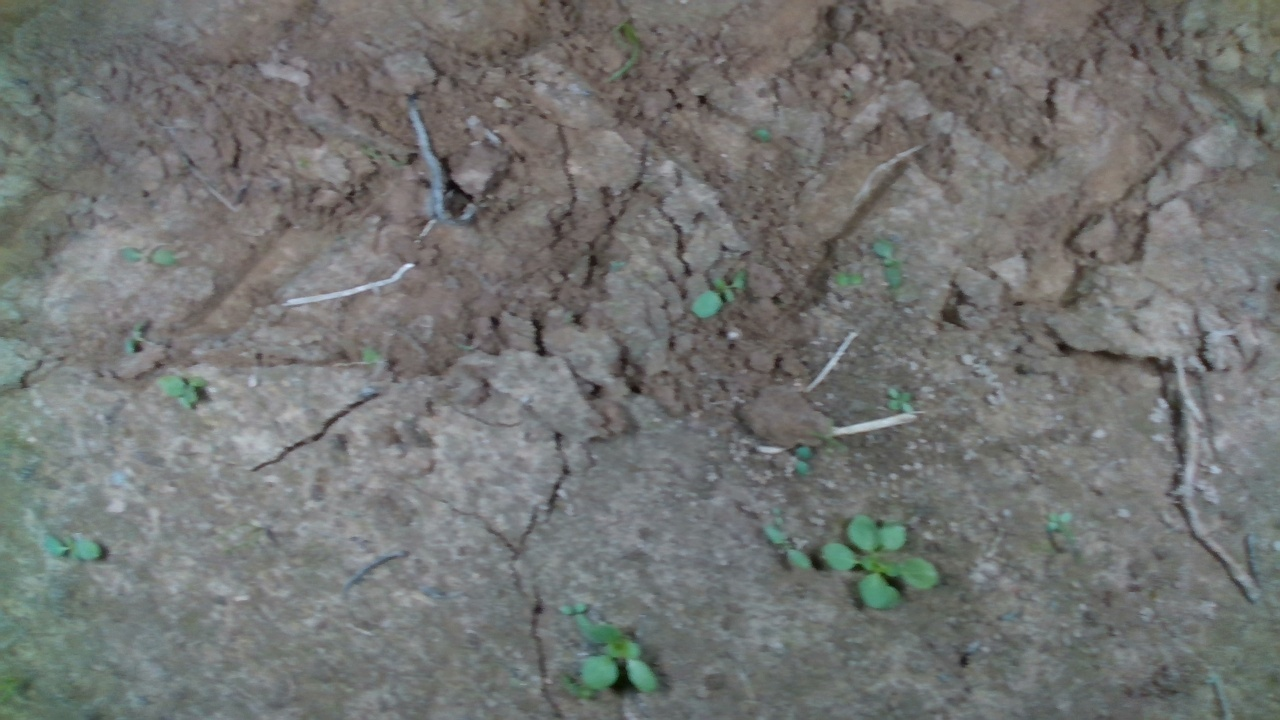weed: (687, 267, 748, 319), (763, 524, 811, 571), (41, 531, 103, 563), (872, 234, 905, 290), (885, 386, 914, 418), (1047, 510, 1074, 535), (829, 270, 865, 288), (792, 444, 812, 476)
